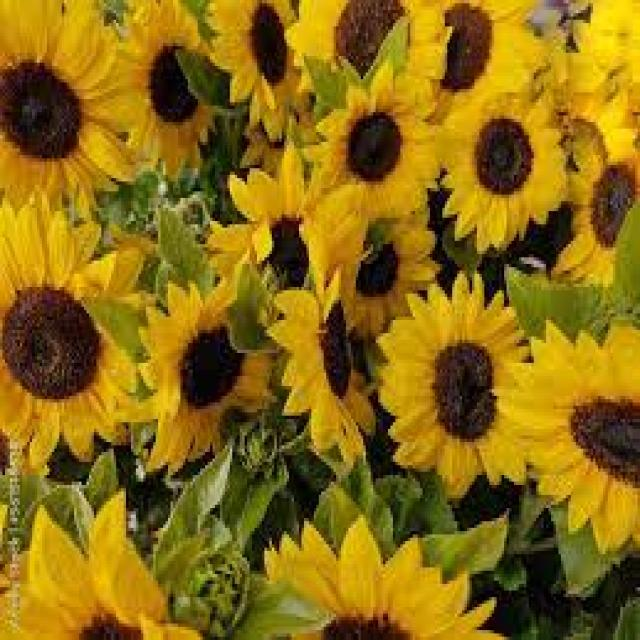sunflower: (0, 189, 169, 485), (367, 261, 539, 509), (484, 307, 640, 561), (0, 0, 146, 238), (4, 476, 213, 640), (245, 511, 509, 640), (138, 269, 282, 479), (259, 246, 383, 474), (279, 0, 462, 142), (97, 0, 227, 198), (308, 60, 454, 234), (435, 76, 578, 252), (296, 192, 452, 347), (374, 0, 560, 126), (204, 136, 327, 326), (195, 0, 319, 142), (543, 128, 640, 300), (549, 0, 640, 97)
